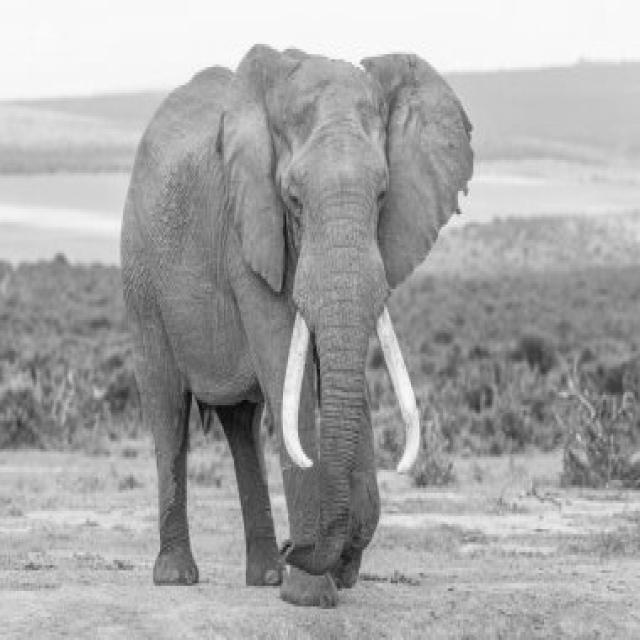Animal: (124, 46, 472, 604)
